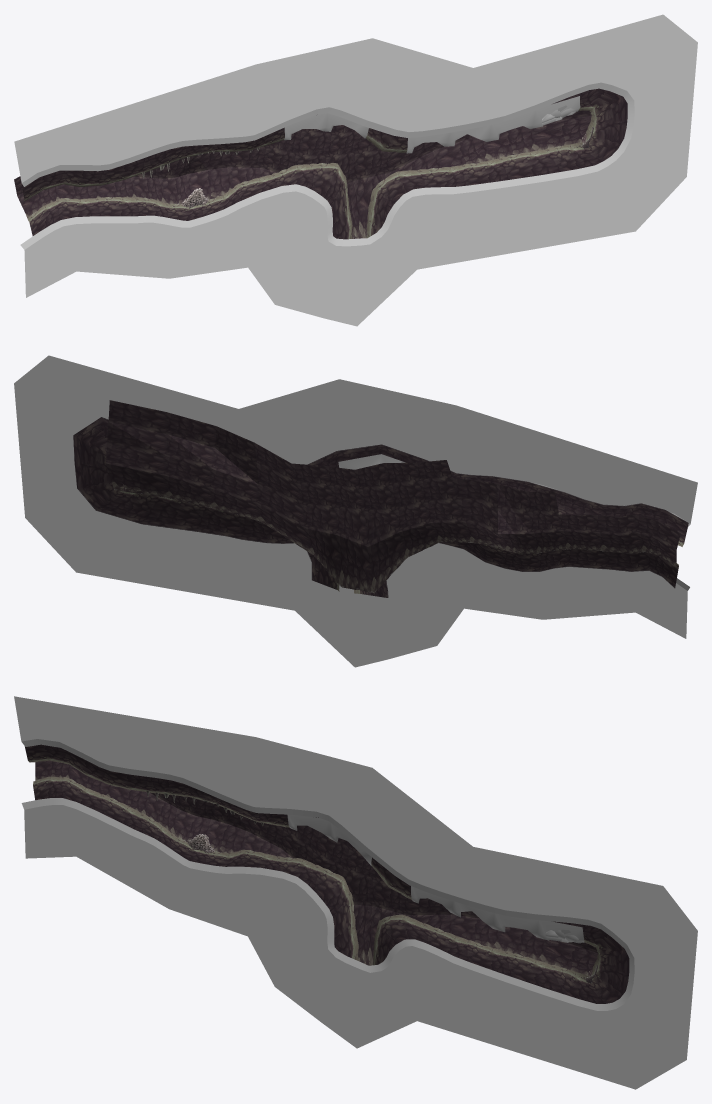
The model's file is LVL 13 Part 2.FBX.
The picture shows the model from 3 angles, top to bottom: view 1: azimuth 30°, elevation 25°; view 2: azimuth 150°, elevation 25°; view 3: azimuth 330°, elevation 25°; orthographic projection.
Parts seen in each view (by area): view 1: LVL 13 Black_Pt2 Cave 2 _2, LVL 13 Black_Pt2 Cave 2, LVL 13 Cave 2 BG pt 2, LVL 13 Cave 2 Ground pt 2, LVL 13 Cave 2 Ground pt 2 _2, LVL 13 Cave 2 Crumbling pt 2; view 2: LVL 13 Cave 2 BG pt 2, LVL 13 Black_Pt2 Cave 2, LVL 13 Black_Pt2 Cave 2 _2, LVL 13 Cave 2 Ground pt 2 _2, LVL 13 Cave 2 Ground pt 2, LVL 13 Cave 2 Crumbling pt 2; view 3: LVL 13 Black_Pt2 Cave 2 _2, LVL 13 Black_Pt2 Cave 2, LVL 13 Cave 2 BG pt 2, LVL 13 Cave 2 Ground pt 2, LVL 13 Cave 2 Ground pt 2 _2, LVL 13 Cave 2 Crumbling pt 2.
Part boxes in pixels (box(x1,y1,x2,y2)): LVL 13 Black_Pt2 Cave 2 _2: box(357, 14, 697, 325); LVL 13 Black_Pt2 Cave 2: box(14, 38, 372, 326); LVL 13 Cave 2 BG pt 2: box(14, 110, 591, 238); LVL 13 Cave 2 Ground pt 2: box(22, 127, 352, 239); LVL 13 Cave 2 Ground pt 2 _2: box(366, 88, 627, 238); LVL 13 Cave 2 Crumbling pt 2: box(284, 96, 580, 153); LVL 13 Cave 2 BG pt 2: box(105, 400, 680, 593); LVL 13 Black_Pt2 Cave 2: box(339, 379, 697, 667); LVL 13 Black_Pt2 Cave 2 _2: box(14, 355, 354, 666); LVL 13 Cave 2 Ground pt 2 _2: box(73, 417, 339, 591); LVL 13 Cave 2 Ground pt 2: box(337, 444, 688, 597); LVL 13 Cave 2 Crumbling pt 2: box(338, 454, 405, 469); LVL 13 Black_Pt2 Cave 2 _2: box(357, 768, 697, 1089); LVL 13 Black_Pt2 Cave 2: box(14, 696, 372, 1048); LVL 13 Cave 2 BG pt 2: box(35, 760, 598, 976); LVL 13 Cave 2 Ground pt 2: box(24, 744, 358, 960); LVL 13 Cave 2 Ground pt 2 _2: box(371, 857, 629, 1003); LVL 13 Cave 2 Crumbling pt 2: box(287, 814, 584, 942).
Bounding box in the file's own units: 23705 × 779 × 9502.
